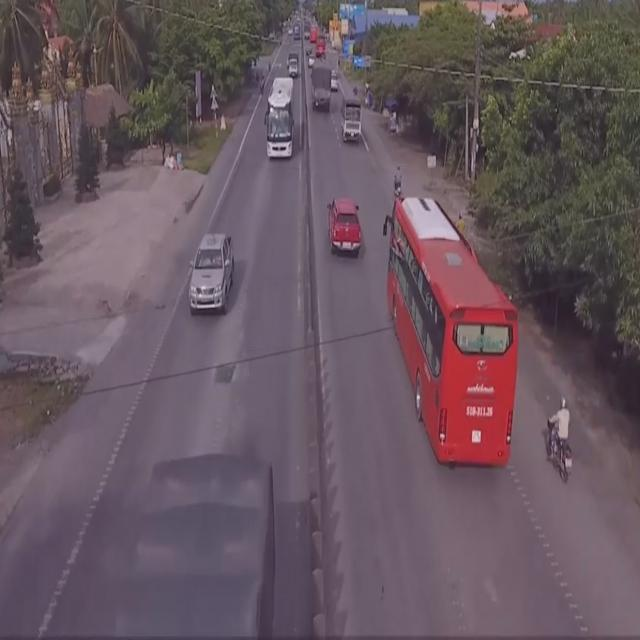bus: (386, 195, 520, 472), (264, 74, 298, 160)
car: (189, 230, 235, 316), (327, 196, 362, 257)
motorbike: (544, 395, 572, 483), (392, 163, 404, 199)
truck: (120, 457, 280, 640), (311, 63, 334, 114), (339, 96, 363, 144)
